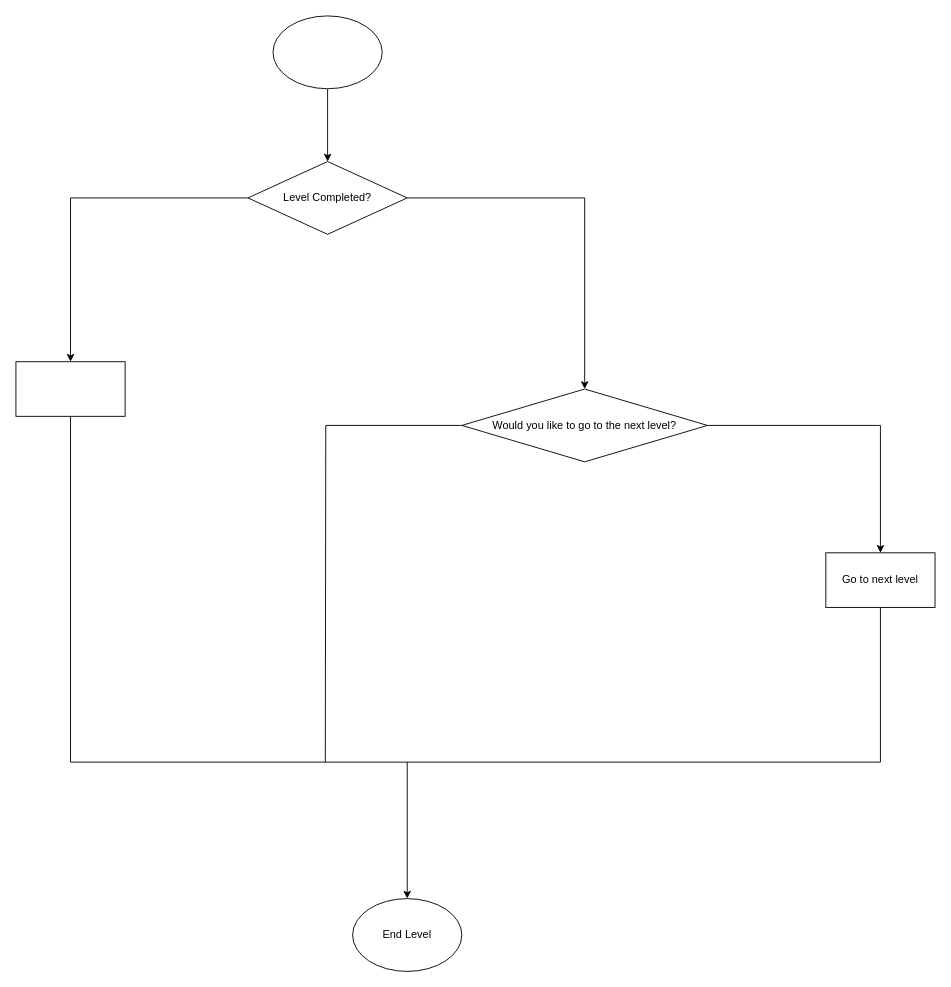
Image size: 951x987. Some labels were removed from this diagram. Here are the shapes that lost their labels. From the top down, the box of each, then its label:
(272, 15, 382, 89): Begin Level
(15, 361, 125, 416): Continue level
